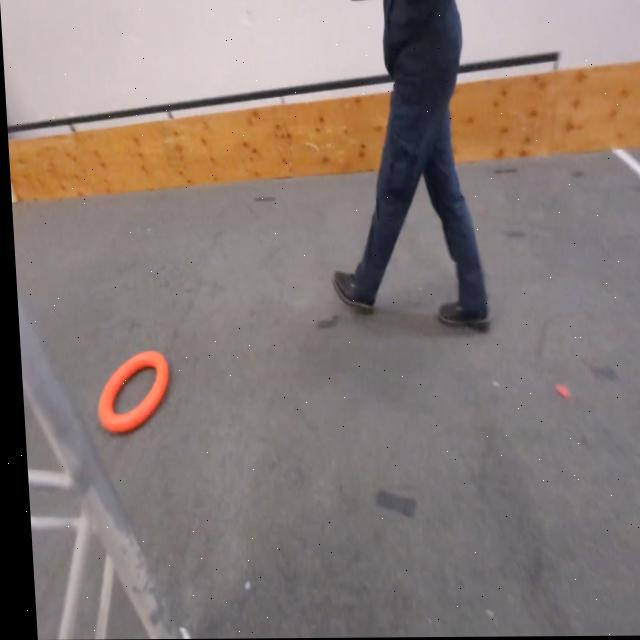note: (92, 352, 171, 437)
